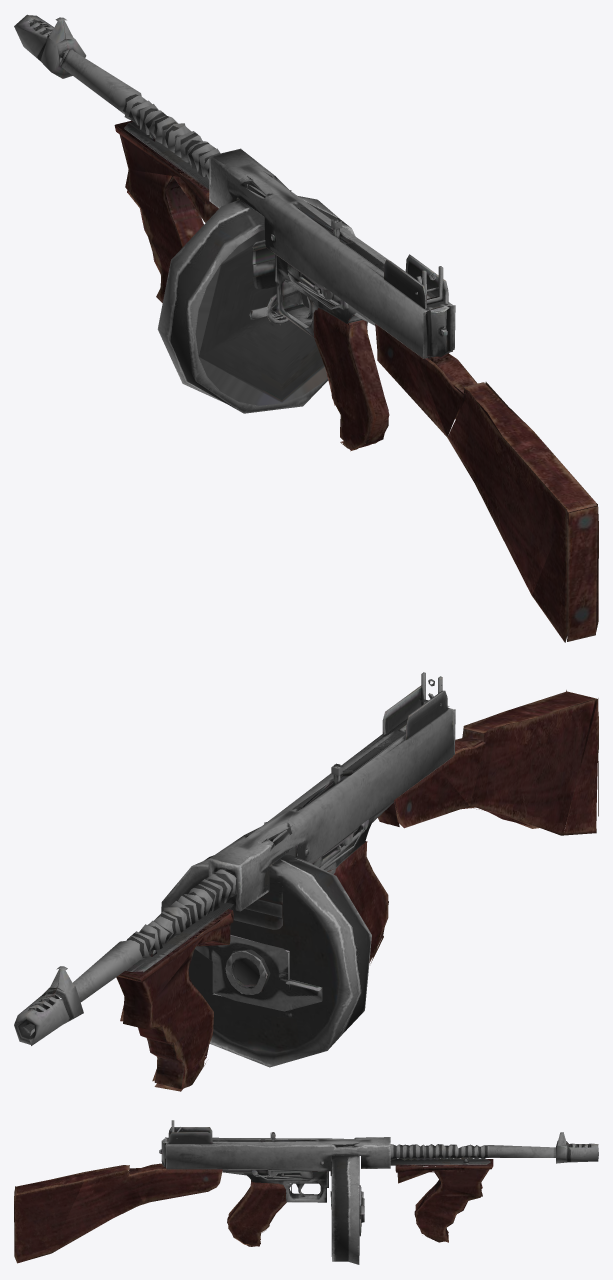
The model's file is thomson-test.glb.
3 renders of one model, top to bottom at view 1: azimuth 30°, elevation 25°; view 2: azimuth 150°, elevation 25°; view 3: azimuth 270°, elevation 25°, orthographic. The views are drawn at different scales.
Parts seen in each view (by area): view 1: Low_poly.002; view 2: Low_poly.002; view 3: Low_poly.002.
Boxes of the visible parts, left/top/right/bottom form: Low_poly.002: left=14, top=14, right=598, bottom=642; Low_poly.002: left=14, top=672, right=598, bottom=1091; Low_poly.002: left=14, top=1120, right=598, bottom=1264.
Size of the model in its own units: 1.94 by 2.52 by 9.61.
Materials: 1 (1 with a texture image).
